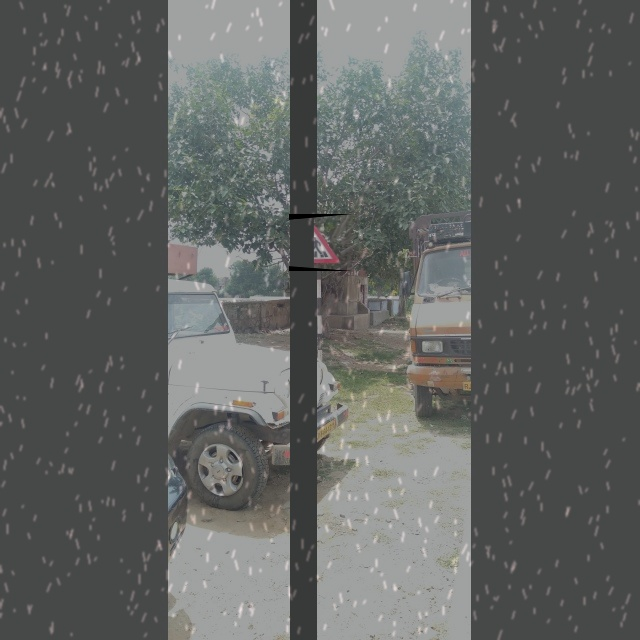Pedestrian_Crossing: (289, 214, 353, 271)
